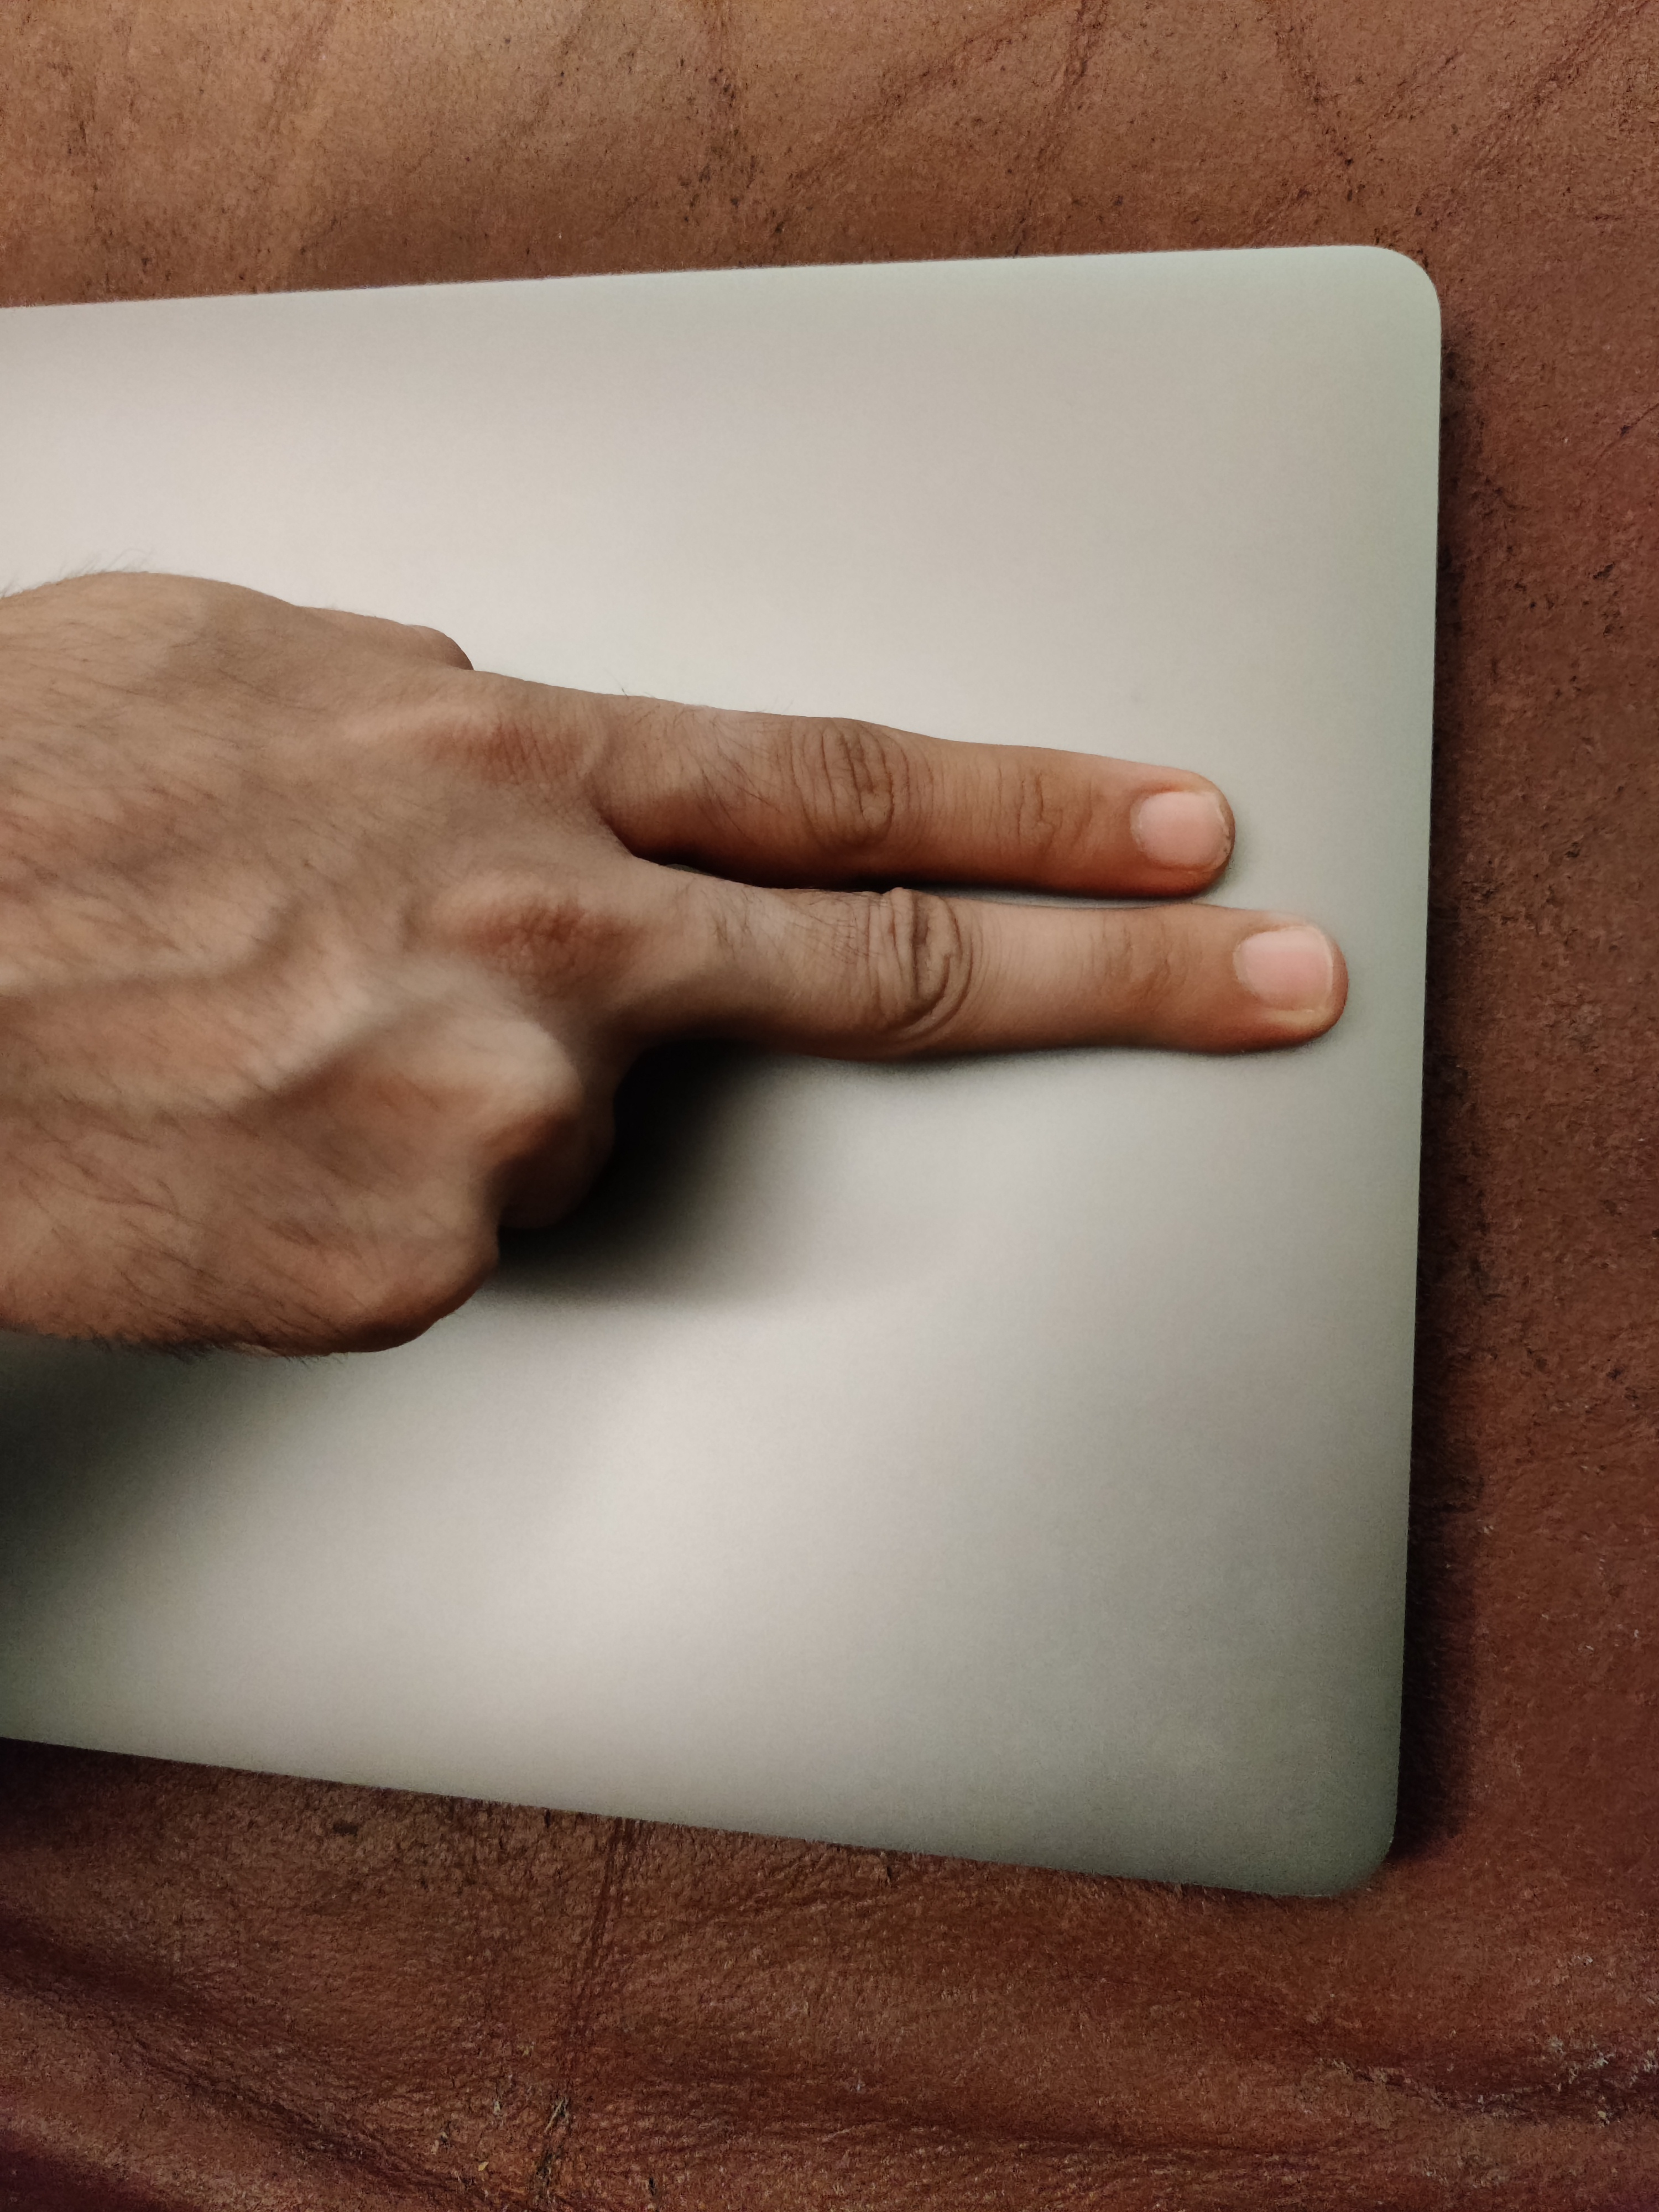left: (23, 242, 1525, 1505)
